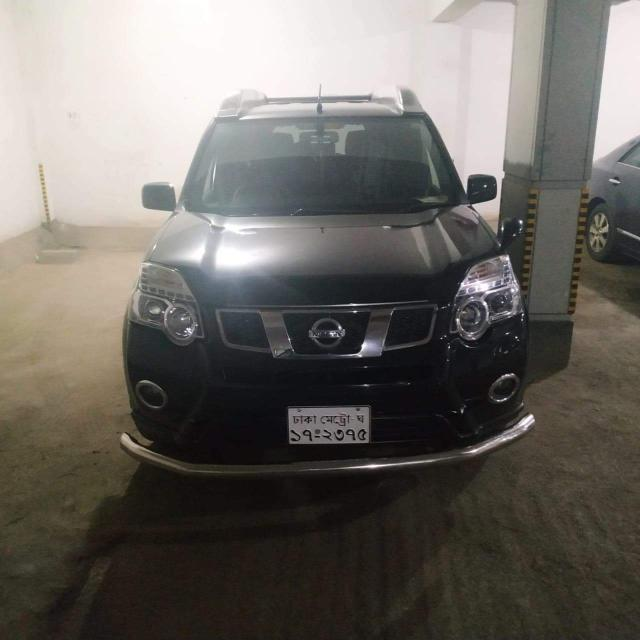black: (132, 82, 524, 471)
